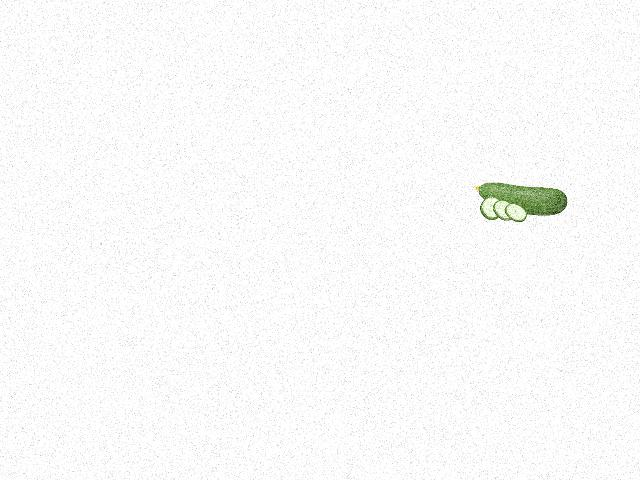cucumber: (473, 183, 568, 216)
